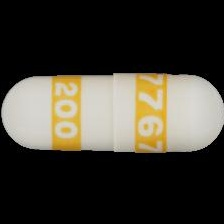10544-917: (0, 0, 224, 224)
